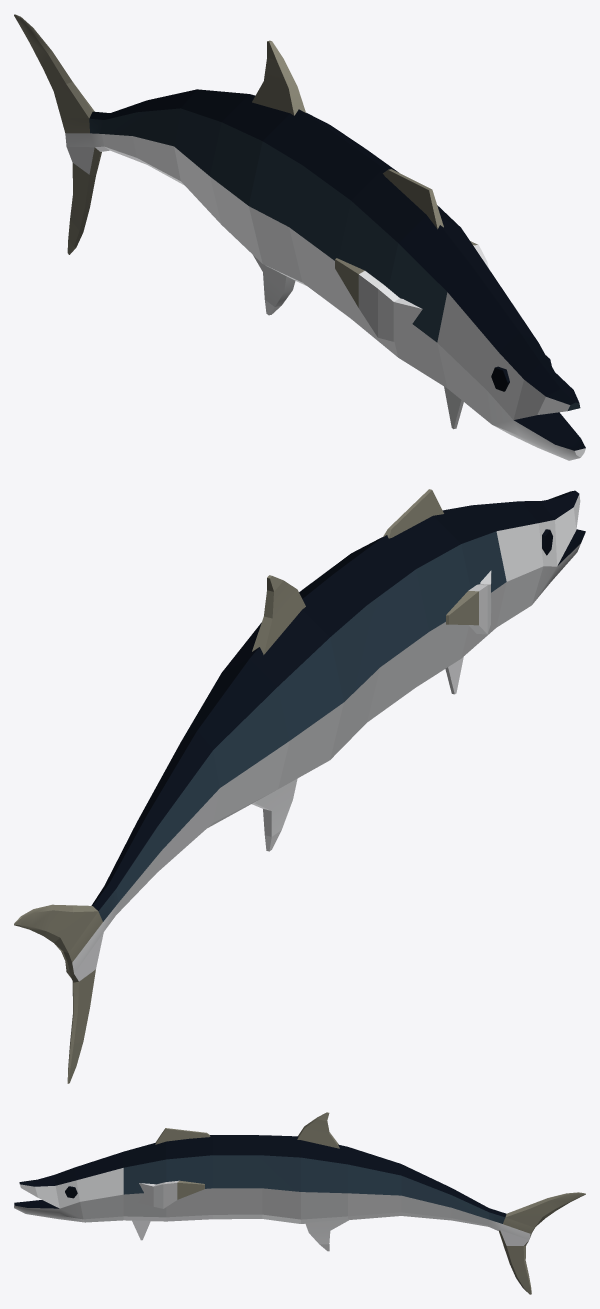
Rendered from Mesh_Kingfish-animation2.obj.
3 views of the same model, one above another, from view 1: azimuth 30°, elevation 25°; view 2: azimuth 150°, elevation 25°; view 3: azimuth 270°, elevation 25° (orthographic). The views are drawn at different scales.
Visible parts, largest first — view 1: Mesh_Kingfish; view 2: Mesh_Kingfish; view 3: Mesh_Kingfish.
Boxes of the visible parts, bbox=[...] form: Mesh_Kingfish: bbox=[14, 14, 585, 460]; Mesh_Kingfish: bbox=[14, 489, 585, 1083]; Mesh_Kingfish: bbox=[14, 1112, 585, 1294].
Bounding box in the file's own units: 17.26 × 49.51 × 141.
1 material, 1 textured.
